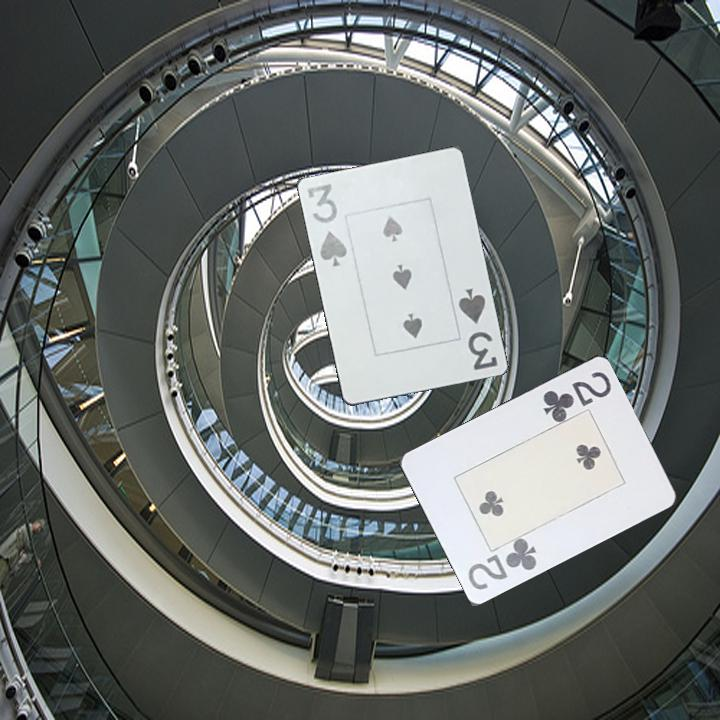2c: (464, 535, 540, 593), (539, 368, 614, 424)
3s: (303, 179, 350, 269), (454, 284, 500, 373)
